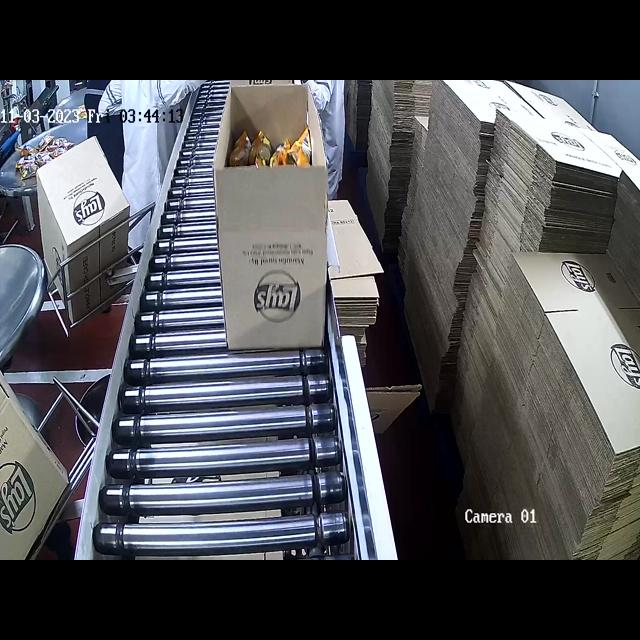cheese: (227, 124, 308, 176)
